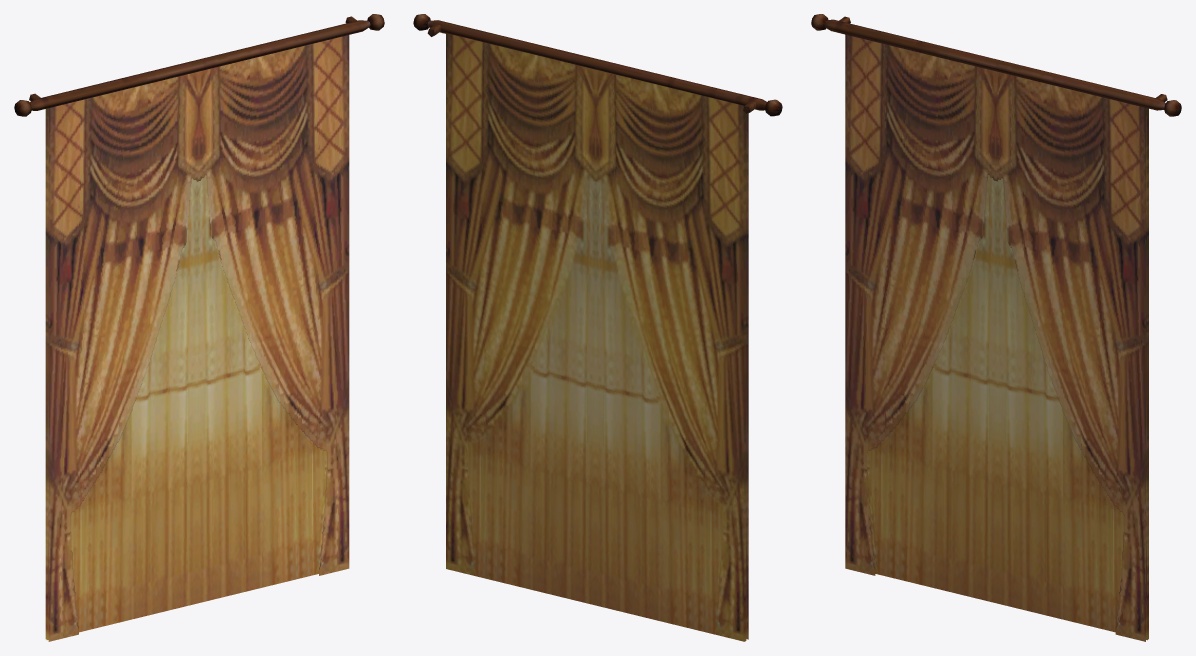
The model's file is furni_0201230.FBX.
3 views of the same model, side by side, from view 1: azimuth 30°, elevation 25°; view 2: azimuth 150°, elevation 25°; view 3: azimuth 330°, elevation 25° (orthographic).
Parts seen in each view (by area): view 1: furni_0201230; view 2: furni_0201230; view 3: furni_0201230.
Part boxes in pixels (box(x1,y1,x2,y2)): furni_0201230: box(14, 14, 384, 641); furni_0201230: box(413, 14, 782, 641); furni_0201230: box(811, 14, 1181, 641).
Size of the model in its own units: 197 by 279 by 12.24.
Materials: 2 (2 with a texture image).
